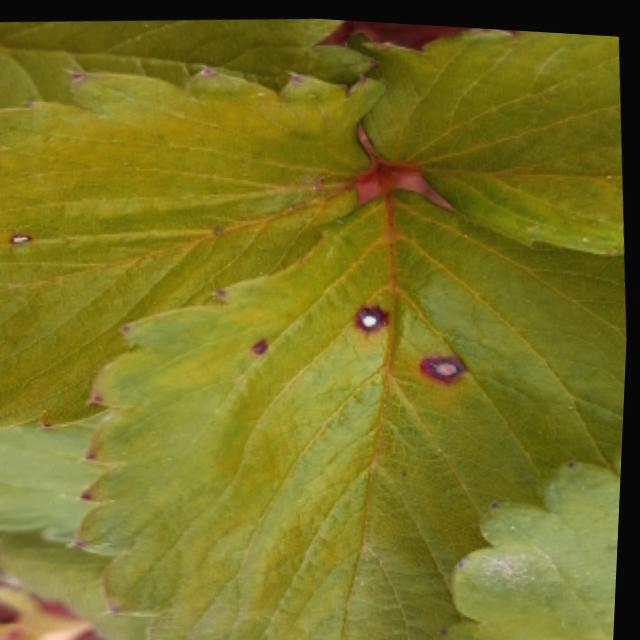Leaf Spot: (69, 180, 629, 640), (0, 62, 389, 430), (446, 438, 626, 640), (0, 14, 379, 109)
